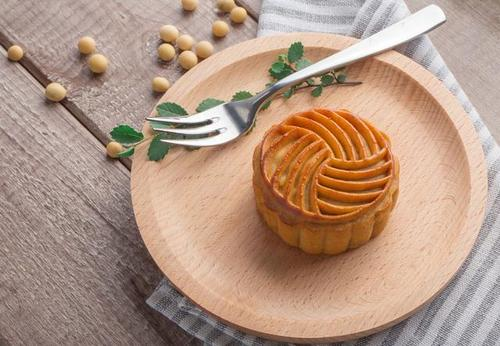MoonCake: (251, 108, 399, 256)
